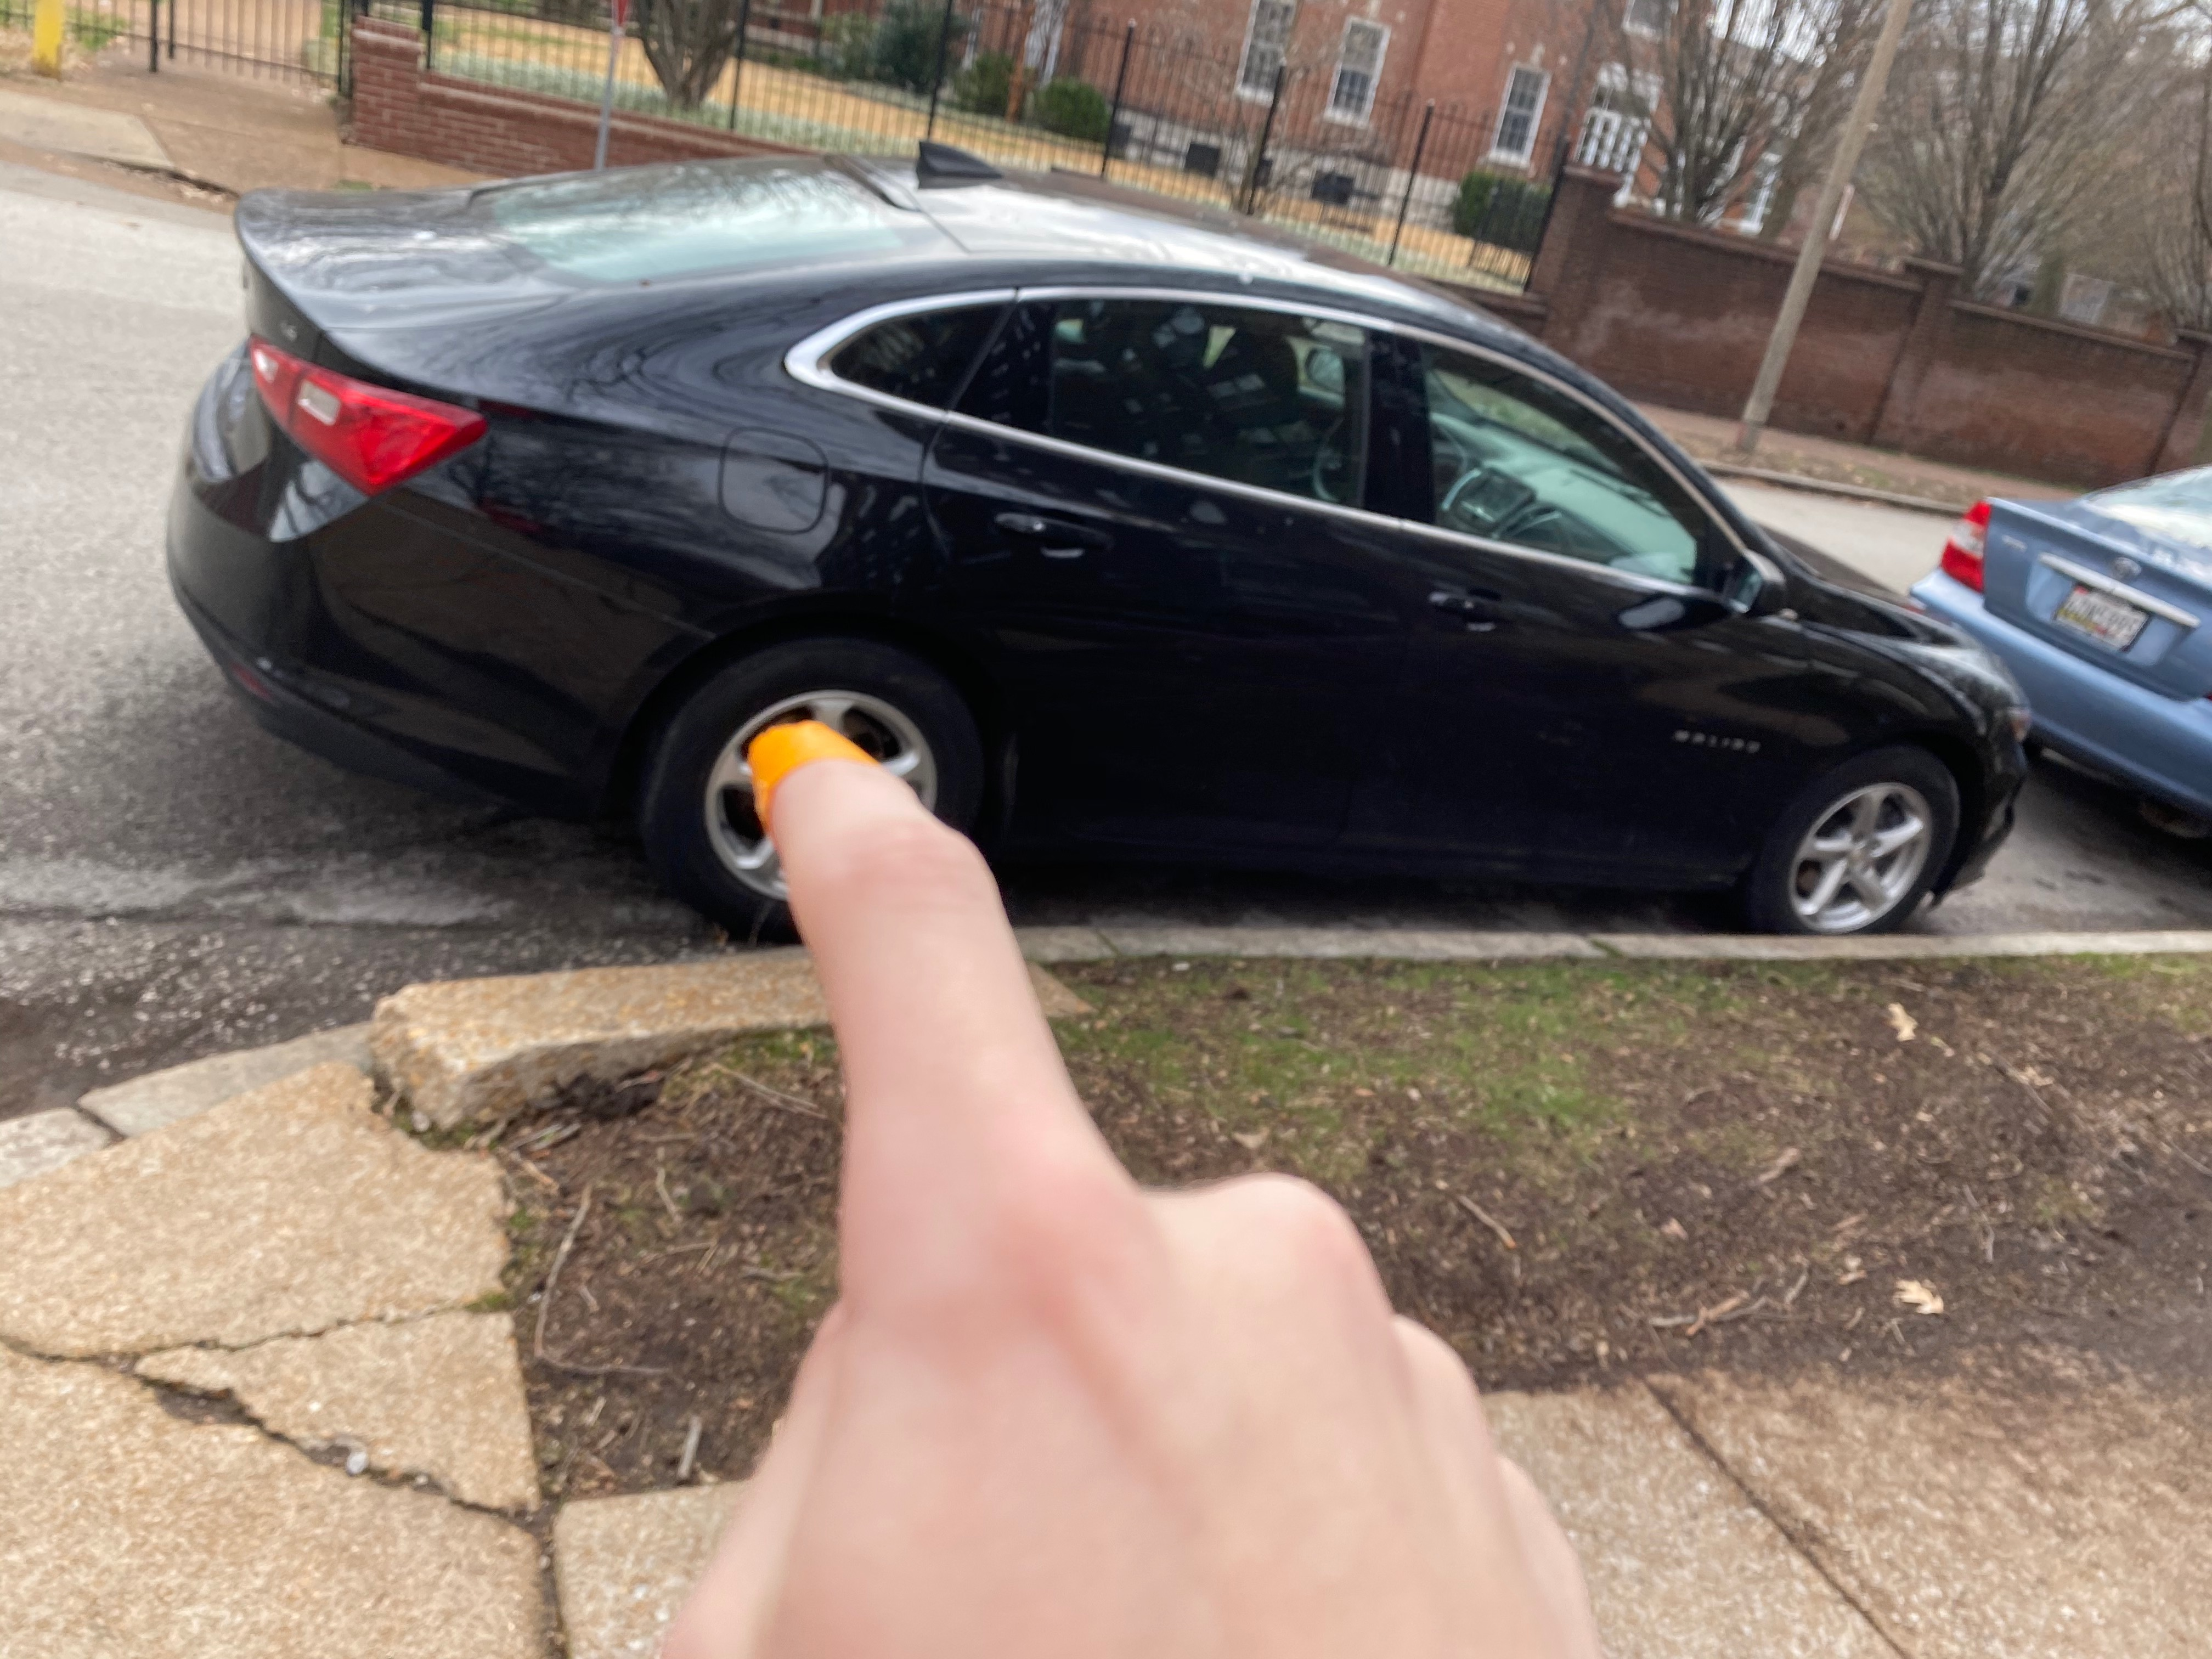fingertip: (712, 713, 979, 889)
